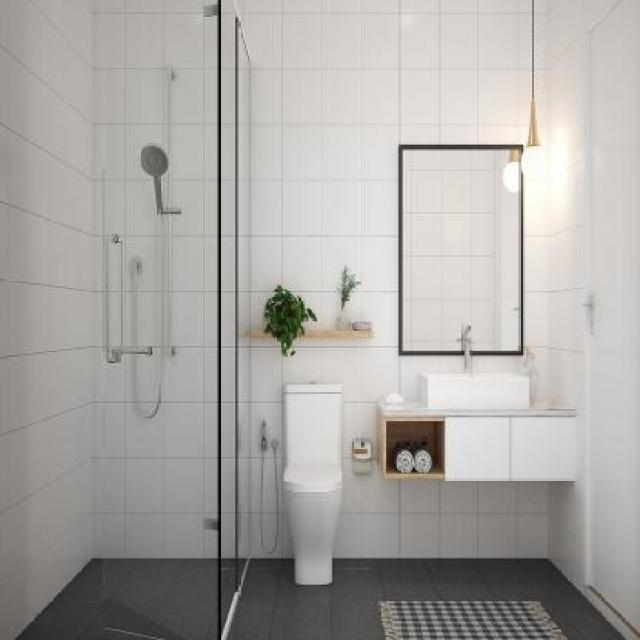floor: (228, 553, 631, 640)
